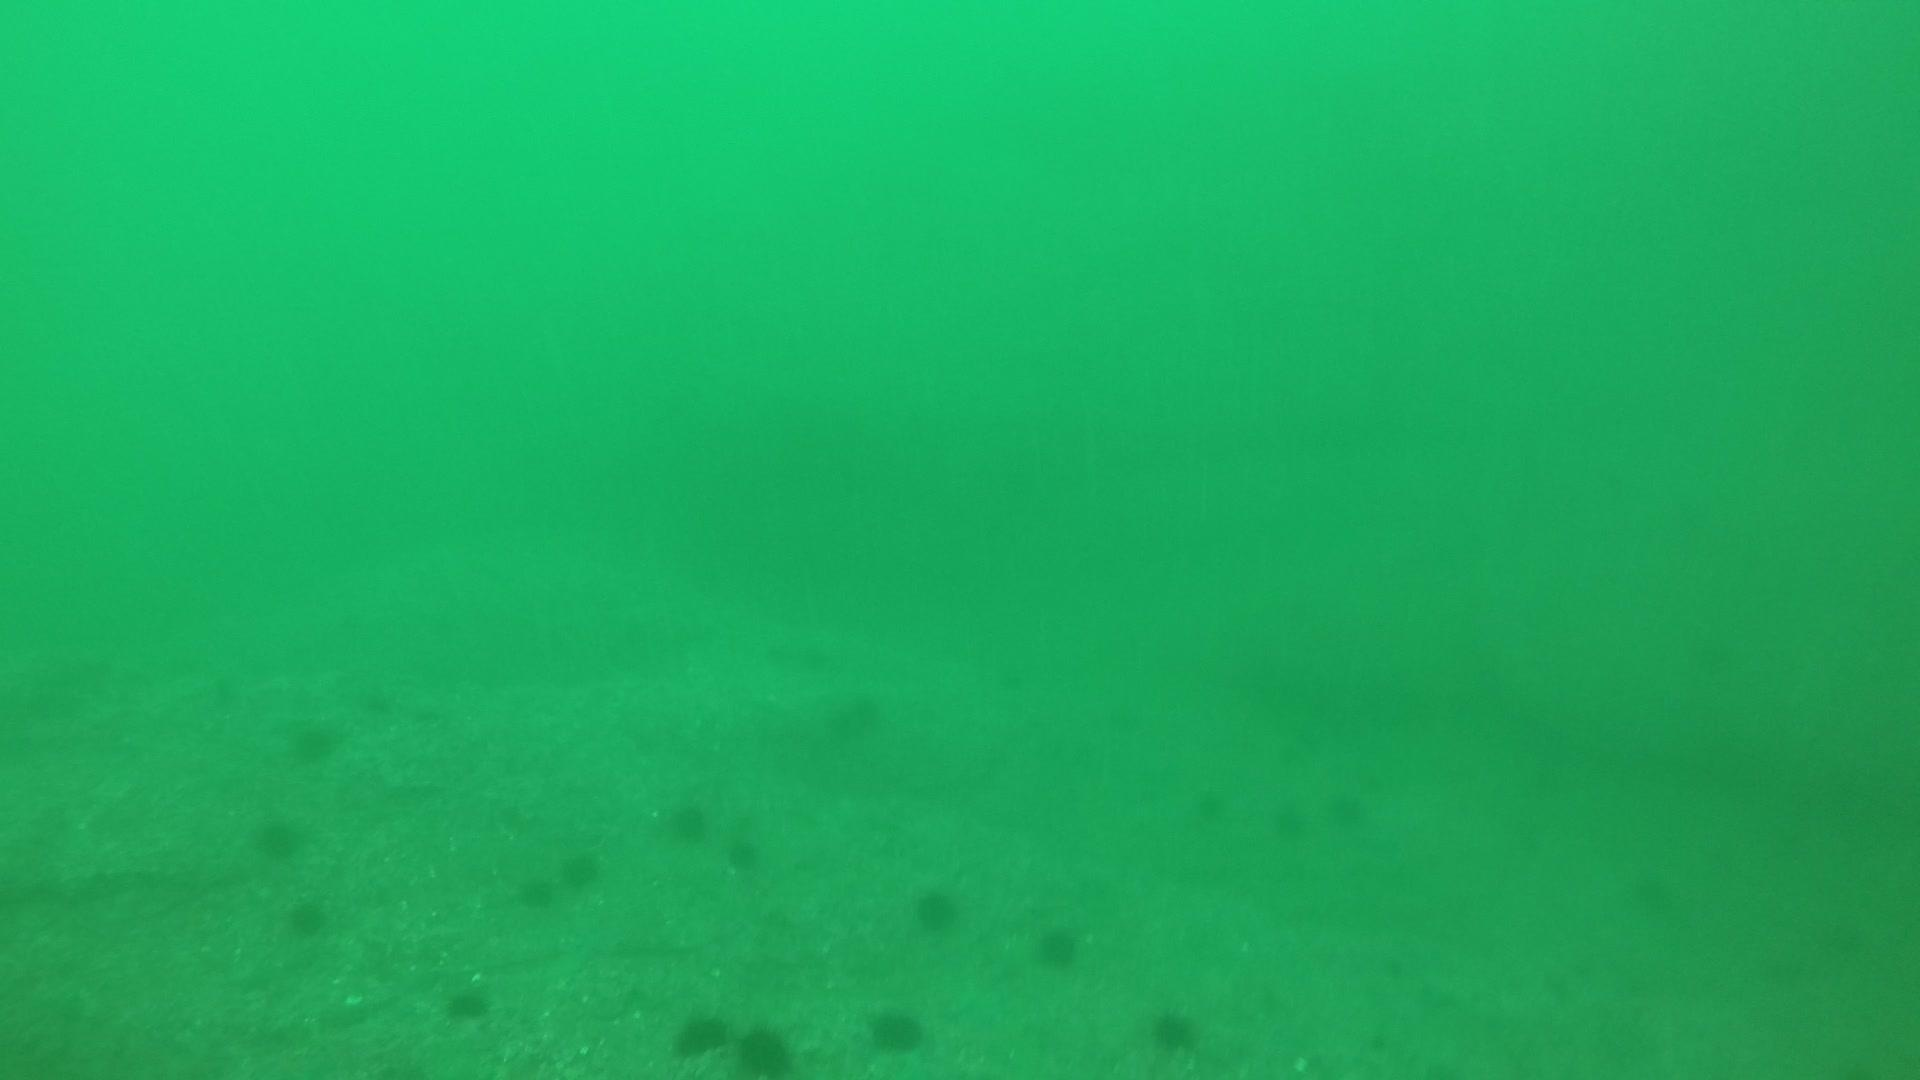echinus: (731, 1021, 798, 1077), (669, 1007, 733, 1064), (823, 687, 887, 744), (864, 1002, 928, 1058), (284, 711, 345, 766), (1145, 1004, 1204, 1058), (1696, 636, 1751, 692), (251, 810, 309, 864), (909, 880, 964, 935), (1030, 918, 1087, 972), (516, 856, 570, 913), (659, 793, 713, 847), (440, 978, 495, 1026), (555, 844, 603, 895), (284, 893, 332, 942), (1324, 785, 1371, 832), (723, 828, 765, 876), (1269, 796, 1309, 844)
